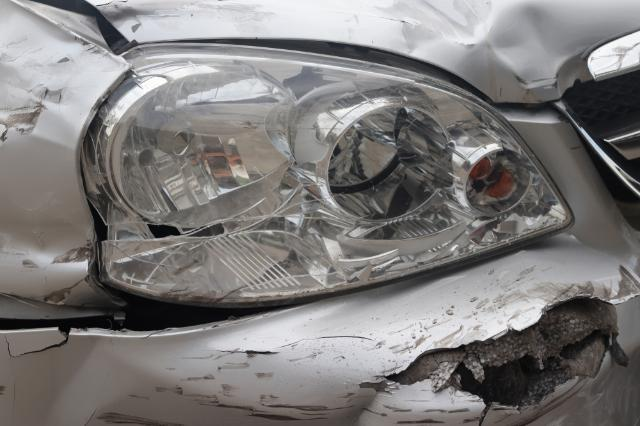crack: (381, 290, 640, 411), (3, 328, 72, 358)
dent: (364, 0, 569, 83), (1, 2, 124, 125), (101, 0, 266, 40), (1, 211, 86, 270)
lamp broken: (83, 46, 569, 315)
scratch: (95, 330, 498, 426)
